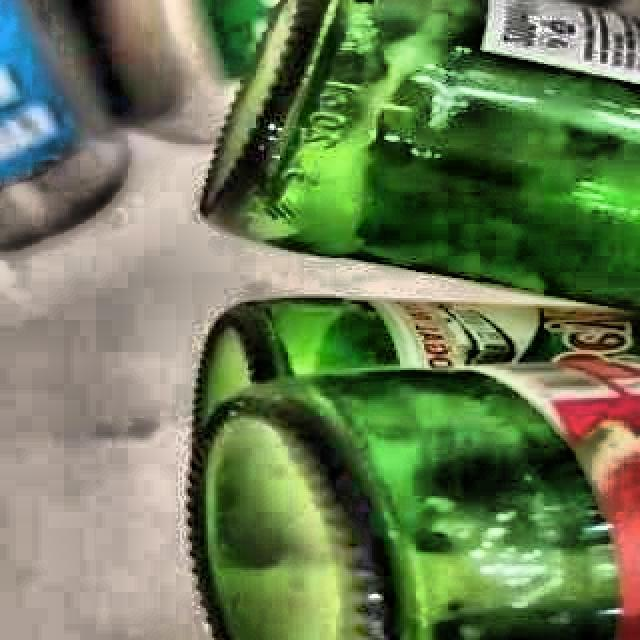glass: (187, 0, 640, 640)
